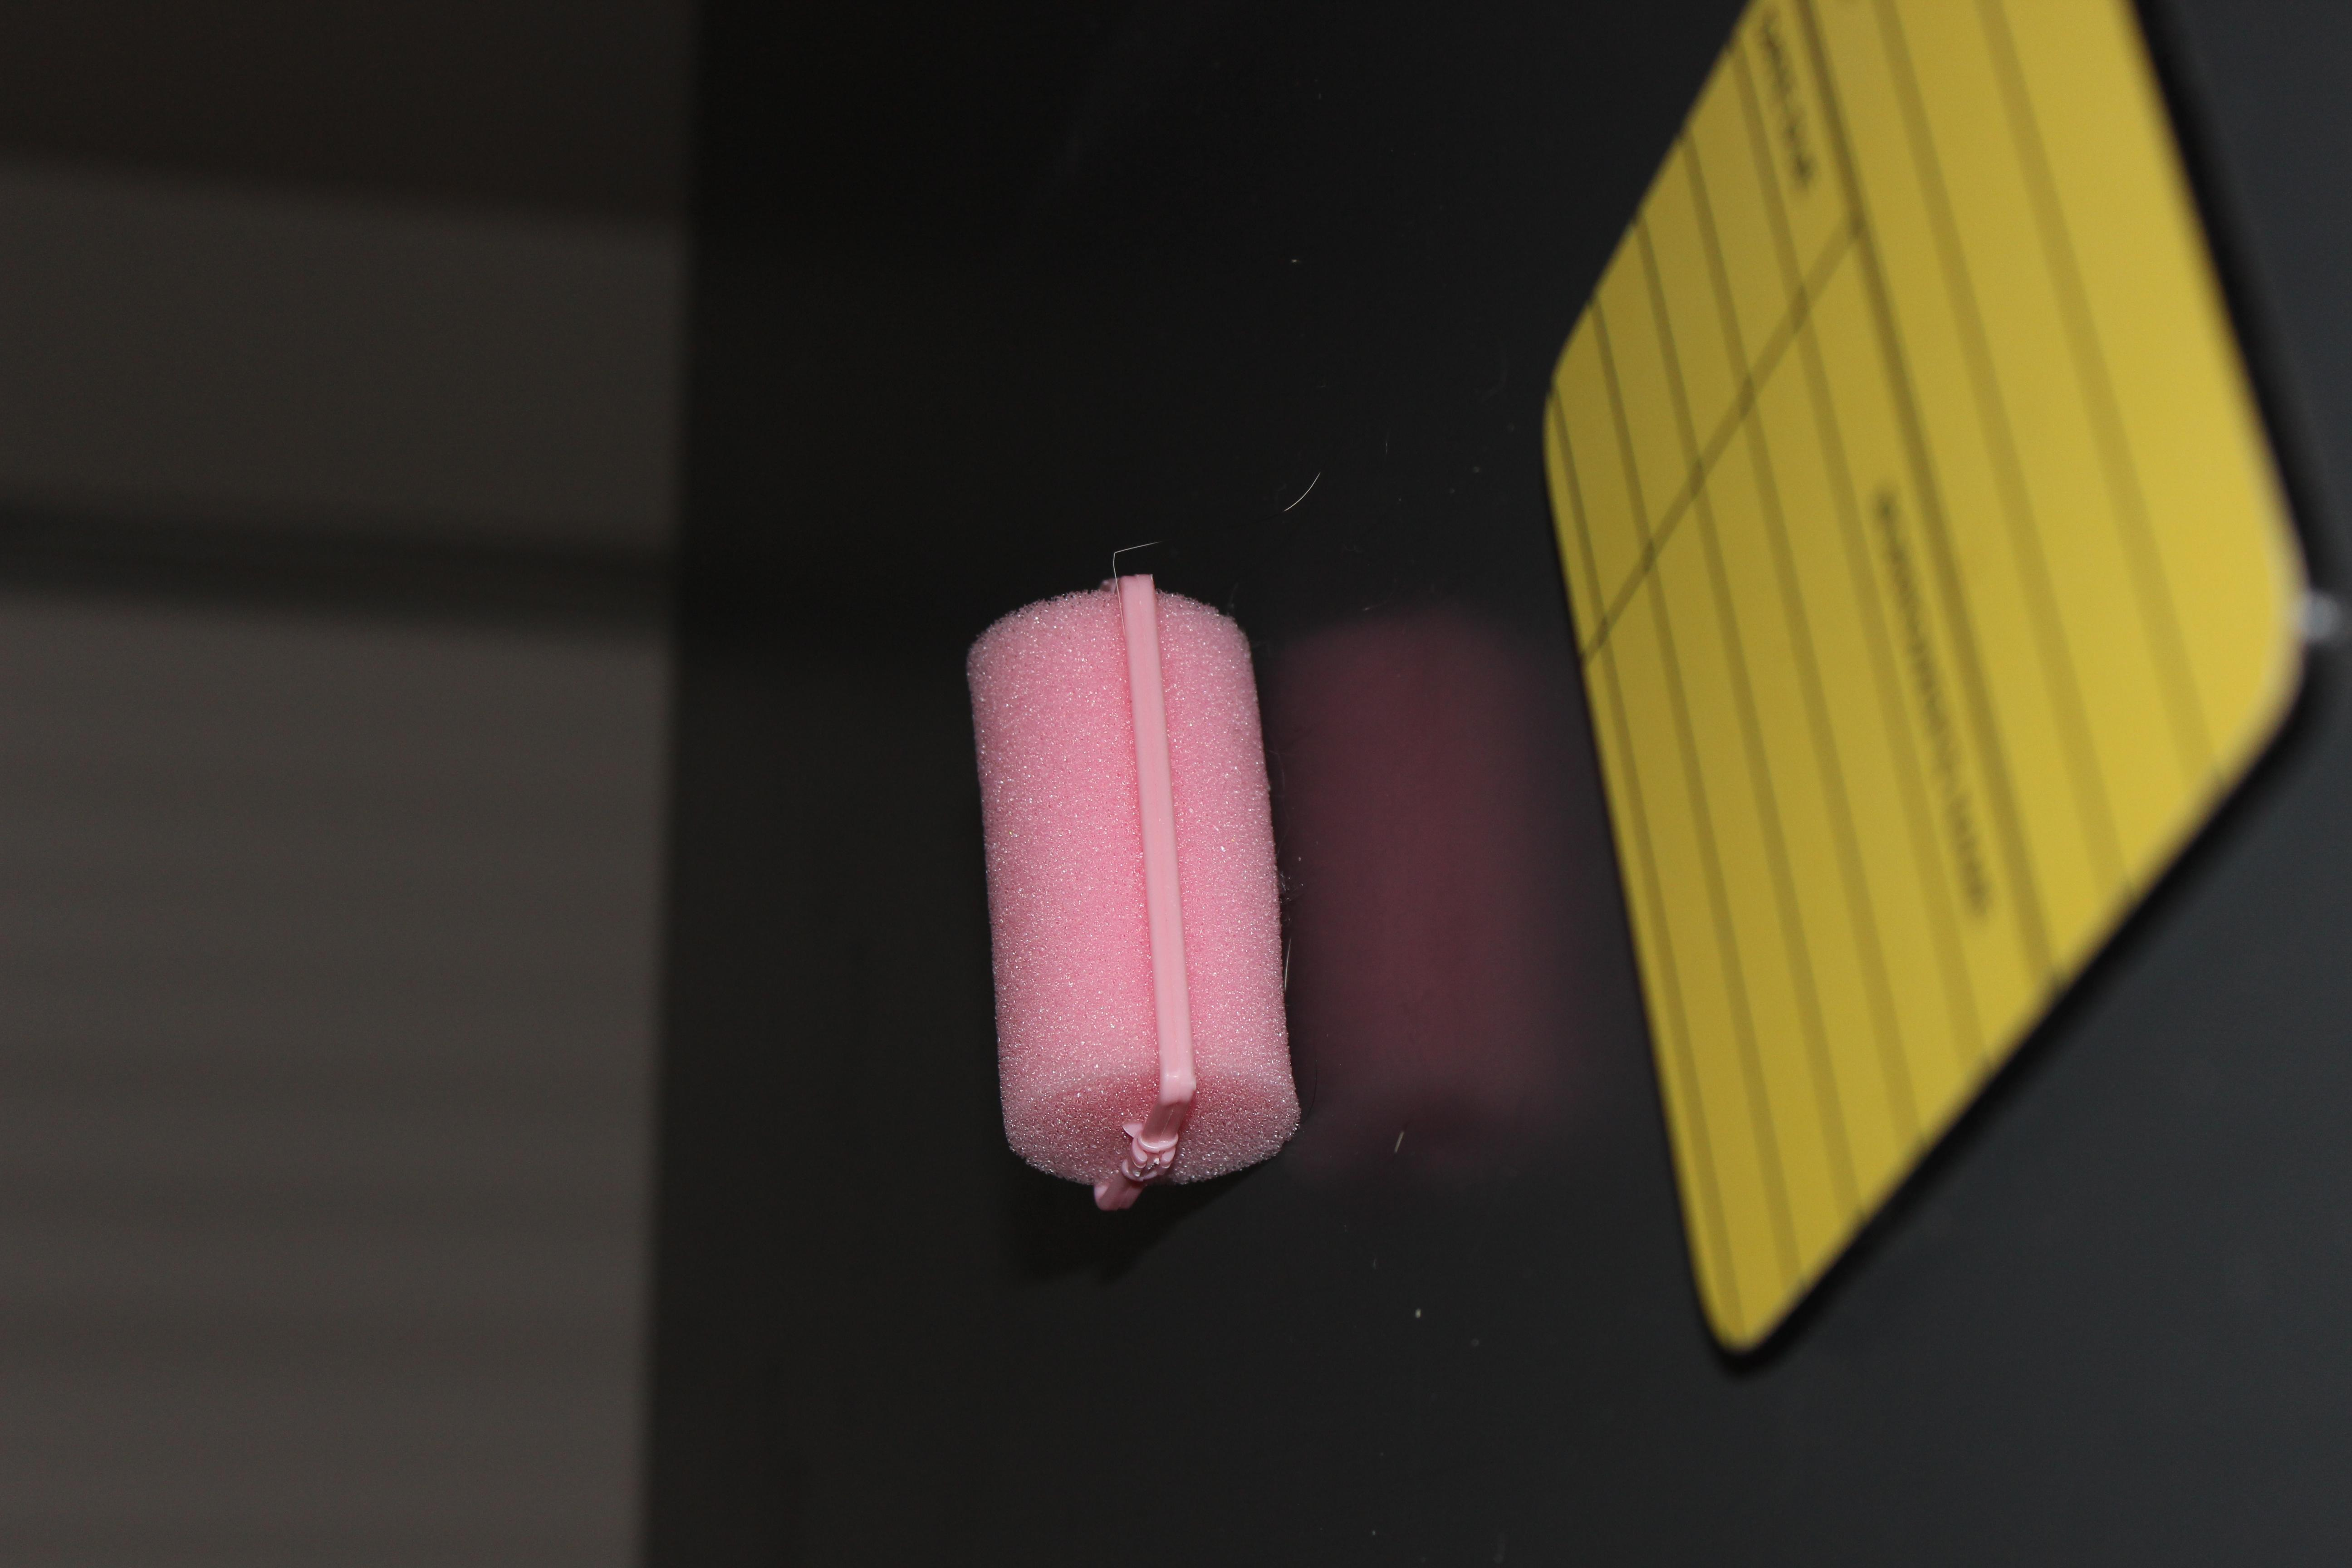hairRoller: (910, 506, 1356, 1286)
